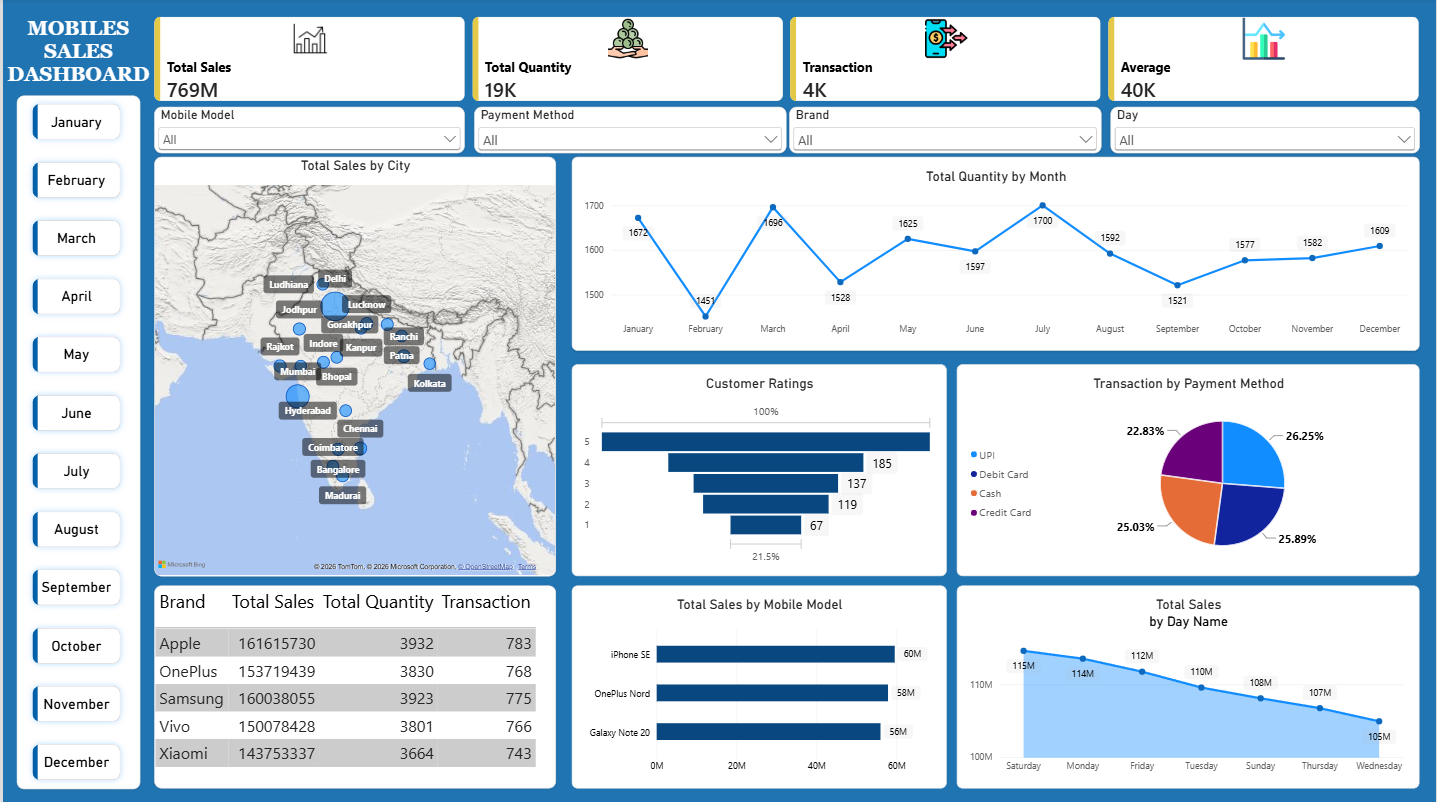

What the dashboard file says about the page in this screenshot:
{"tool":"powerbi","page":{"name":"Dashboard","canvas":[1920,1080],"ordinal":0},"visuals":[{"type":"textbox","box":[3.5,24.4,195.3,94.2],"z":0},{"type":"shape","box":[19.2,130.8,165.7,929.7],"z":2000},{"type":"advancedSlicerVisual","fields":{"Values":["Clean Data.Date.Variation.Date Hierarchy.Month"]},"box":[27.9,130.8,146.5,929.7],"z":3000},{"type":"cardVisual","fields":{"Data":["Sales_Data.Total Sales","Sales_Data.Total Quantity","Sales_Data.Transaction","Sales_Data.Average"]},"box":[202,25,1696,123],"z":4000},{"type":"map","fields":{"Category":["Sales_Data.City"],"Size":["Sales_Data.Total Sales"]},"box":[202,212,538,562],"z":5000},{"type":"lineChart","fields":{"Y":["Sales_Data.Total Quantity"],"Category":["Sales_Data.Date.Variation.Date Hierarchy.Month","Sales_Data.Date.Variation.Date Hierarchy.Day"]},"box":[762,212,1136,260],"z":6000},{"type":"clusteredBarChart","fields":{"Category":["Sales_Data.Mobile Model"],"Y":["Sales_Data.Total Sales"]},"box":[762,788,502,272],"z":7000},{"type":"pieChart","fields":{"Category":["Sales_Data.Payment Method"],"Y":["Sales_Data.Transaction"]},"box":[1278,490,620,284],"z":8000},{"type":"funnel","title":"Customer Ratings","fields":{"Category":["Sales_Data.Customer Ratings"],"Y":["CountNonNull(Sales_Data.Customer Ratings)"]},"box":[762,490,502,284],"z":9000},{"type":"areaChart","fields":{"Category":["Sales_Data.Day Name"],"Y":["Sales_Data.Total Sales"]},"box":[1278,788,620,272],"z":10000},{"type":"tableEx","fields":{"Values":["Sales_Data.Brand","Sales_Data.Total Sales","Sales_Data.Total Quantity","Sales_Data.Transaction"]},"box":[202,788,538,272],"z":11000},{"type":"slicer","fields":{"Values":["Sales_Data.Mobile Model"]},"box":[202,146,416,62],"z":12000},{"type":"slicer","fields":{"Values":["Sales_Data.Payment Method"]},"box":[632,146,418,62],"z":13000},{"type":"slicer","fields":{"Values":["Sales_Data.Brand"]},"box":[1054,146,418,62],"z":14000},{"type":"slicer","fields":{"Values":["Sales_Data.Date.Variation.Date Hierarchy.Day"]},"box":[1484,146,414,62],"z":15000}]}

Visuals, with their boxes in screenshot pixels (x1, y1, x2, y2), scaled from the page's 1920x1080 canvas onto the 1437x802 screenshot:
textbox: (x1=3, y1=18, x2=149, y2=88)
shape: (x1=14, y1=97, x2=138, y2=788)
advancedSlicerVisual - Clean Data.Date.Variation.Date Hierarchy.Month: (x1=21, y1=97, x2=131, y2=788)
cardVisual - Sales_Data.Total Sales x Sales_Data.Total Quantity: (x1=151, y1=19, x2=1421, y2=110)
map - Sales_Data.City x Sales_Data.Total Sales: (x1=151, y1=157, x2=554, y2=575)
lineChart - Sales_Data.Total Quantity x Sales_Data.Date.Variation.Date Hierarchy.Month: (x1=570, y1=157, x2=1421, y2=351)
clusteredBarChart - Sales_Data.Mobile Model x Sales_Data.Total Sales: (x1=570, y1=585, x2=946, y2=787)
pieChart - Sales_Data.Payment Method x Sales_Data.Transaction: (x1=957, y1=364, x2=1421, y2=575)
"Customer Ratings" funnel: (x1=570, y1=364, x2=946, y2=575)
areaChart - Sales_Data.Day Name x Sales_Data.Total Sales: (x1=957, y1=585, x2=1421, y2=787)
tableEx - Sales_Data.Brand x Sales_Data.Total Sales: (x1=151, y1=585, x2=554, y2=787)
slicer - Sales_Data.Mobile Model: (x1=151, y1=108, x2=463, y2=154)
slicer - Sales_Data.Payment Method: (x1=473, y1=108, x2=786, y2=154)
slicer - Sales_Data.Brand: (x1=789, y1=108, x2=1102, y2=154)
slicer - Sales_Data.Date.Variation.Date Hierarchy.Day: (x1=1111, y1=108, x2=1421, y2=154)
